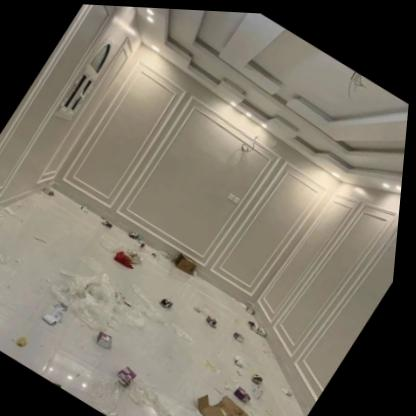Futec frame: (112, 92, 289, 275), (53, 52, 194, 224), (208, 154, 333, 308)
